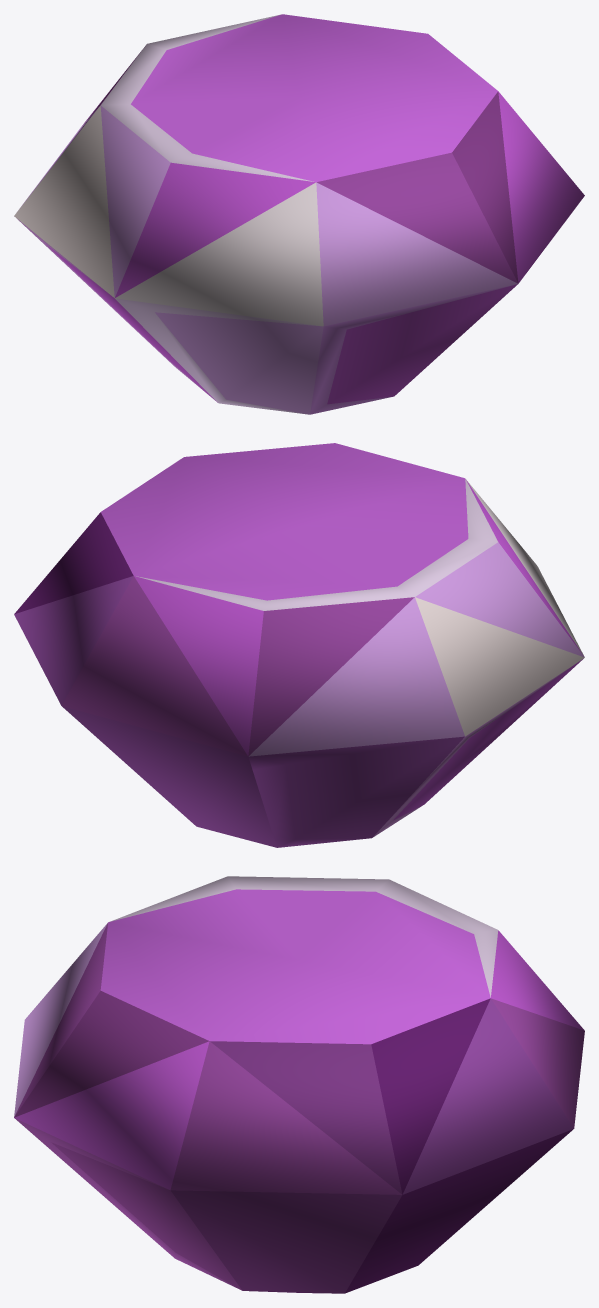
Rendered from PenglantianCrystalPurple_1.glb.
The picture shows the model from 3 angles, top to bottom: view 1: azimuth 30°, elevation 25°; view 2: azimuth 150°, elevation 25°; view 3: azimuth 270°, elevation 25°; orthographic projection. The views are drawn at different scales.
Visible parts, largest first — view 1: PenglantianCrystalPurple; view 2: PenglantianCrystalPurple; view 3: PenglantianCrystalPurple.
Boxes of the visible parts, x1,y1,x2,y2 form: PenglantianCrystalPurple: (14,14,584,414); PenglantianCrystalPurple: (14,443,584,847); PenglantianCrystalPurple: (14,876,584,1293).
Size of the model in its own units: 2.45 by 1.57 by 2.45.
